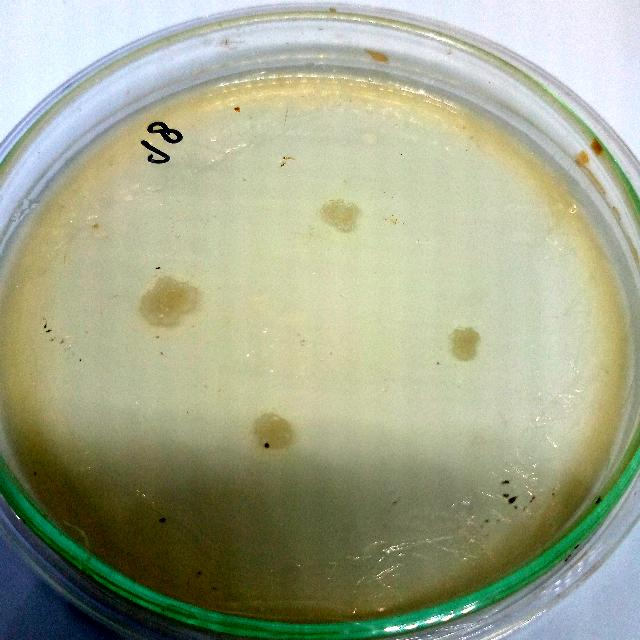colony: (136, 270, 204, 332), (246, 401, 300, 454), (315, 189, 367, 239), (440, 319, 486, 365)
